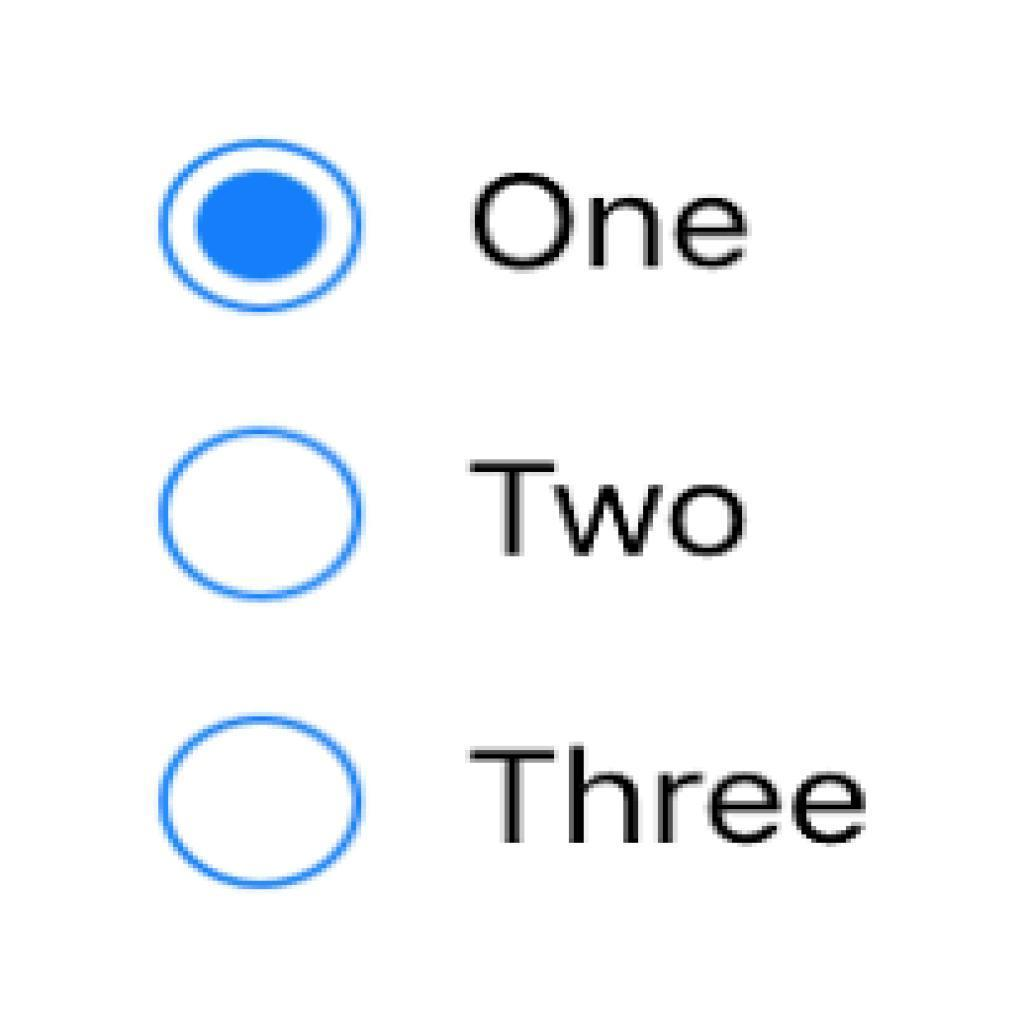label: (463, 734, 876, 875), (459, 440, 754, 585), (464, 171, 756, 288)
radio: (147, 137, 372, 323), (154, 427, 372, 612), (154, 716, 369, 892)
